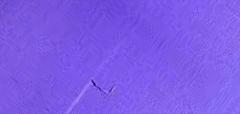snag: (88, 76, 117, 100)
